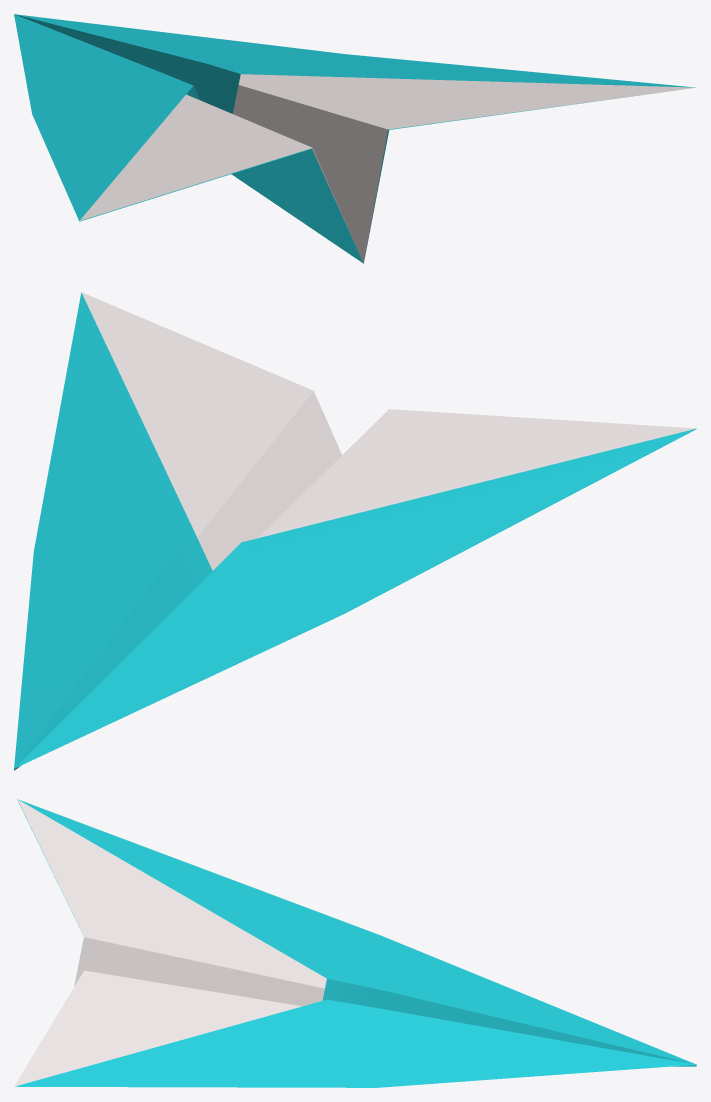
The model's file is PaperPlane.fbx.
3 renders of one model, top to bottom at view 1: azimuth 30°, elevation 25°; view 2: azimuth 150°, elevation 25°; view 3: azimuth 270°, elevation 25°, orthographic. The views are drawn at different scales.
Parts seen in each view (by area): view 1: PaperAirplane; view 2: PaperAirplane; view 3: PaperAirplane.
Boxes of the visible parts, x1,y1,x2,y2 form: PaperAirplane: (14, 14, 695, 263); PaperAirplane: (14, 292, 696, 770); PaperAirplane: (14, 799, 696, 1087).
Size of the model in its own units: 192 by 43.02 by 202.
